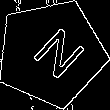N_SW: (19, 21, 83, 85)
